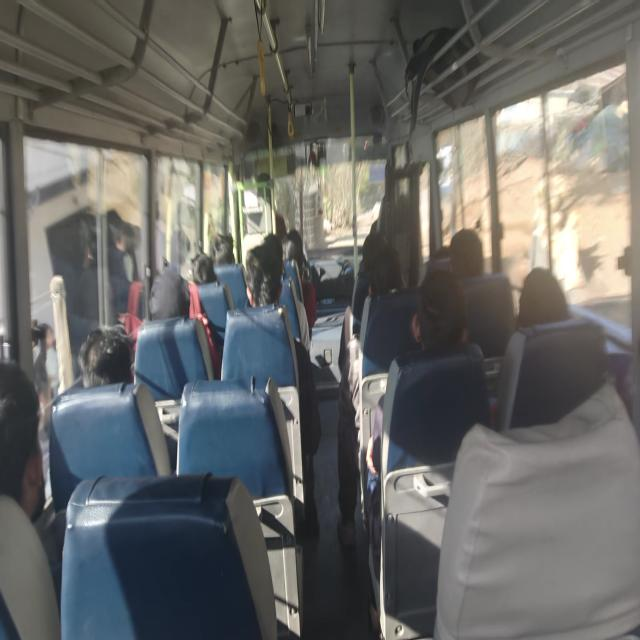person: (0, 385, 69, 533), (64, 318, 132, 398), (244, 238, 288, 309), (420, 282, 464, 349), (515, 268, 563, 326), (366, 250, 414, 302), (148, 285, 193, 331), (447, 231, 479, 278), (208, 228, 242, 272), (185, 255, 222, 294), (424, 237, 456, 266), (360, 231, 389, 261), (263, 234, 284, 256), (282, 230, 301, 253)
